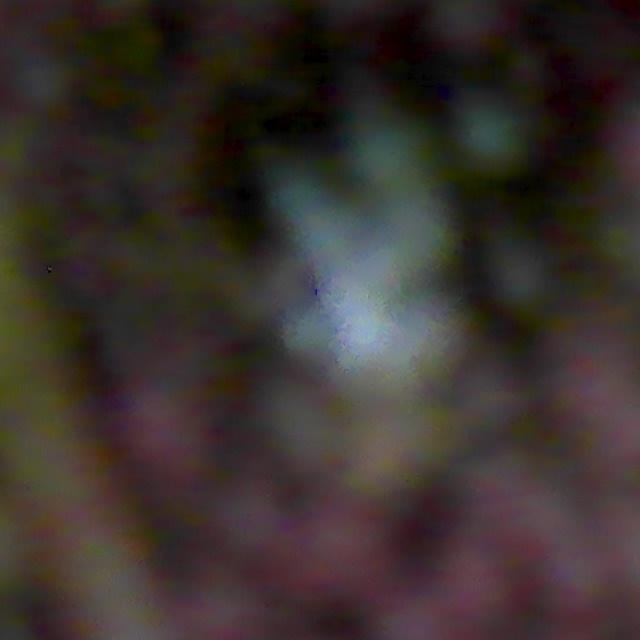SeaGrape: (440, 551, 522, 630), (350, 120, 431, 196), (319, 524, 387, 607), (455, 99, 528, 174), (487, 240, 554, 310), (426, 0, 502, 56), (484, 473, 557, 531)
